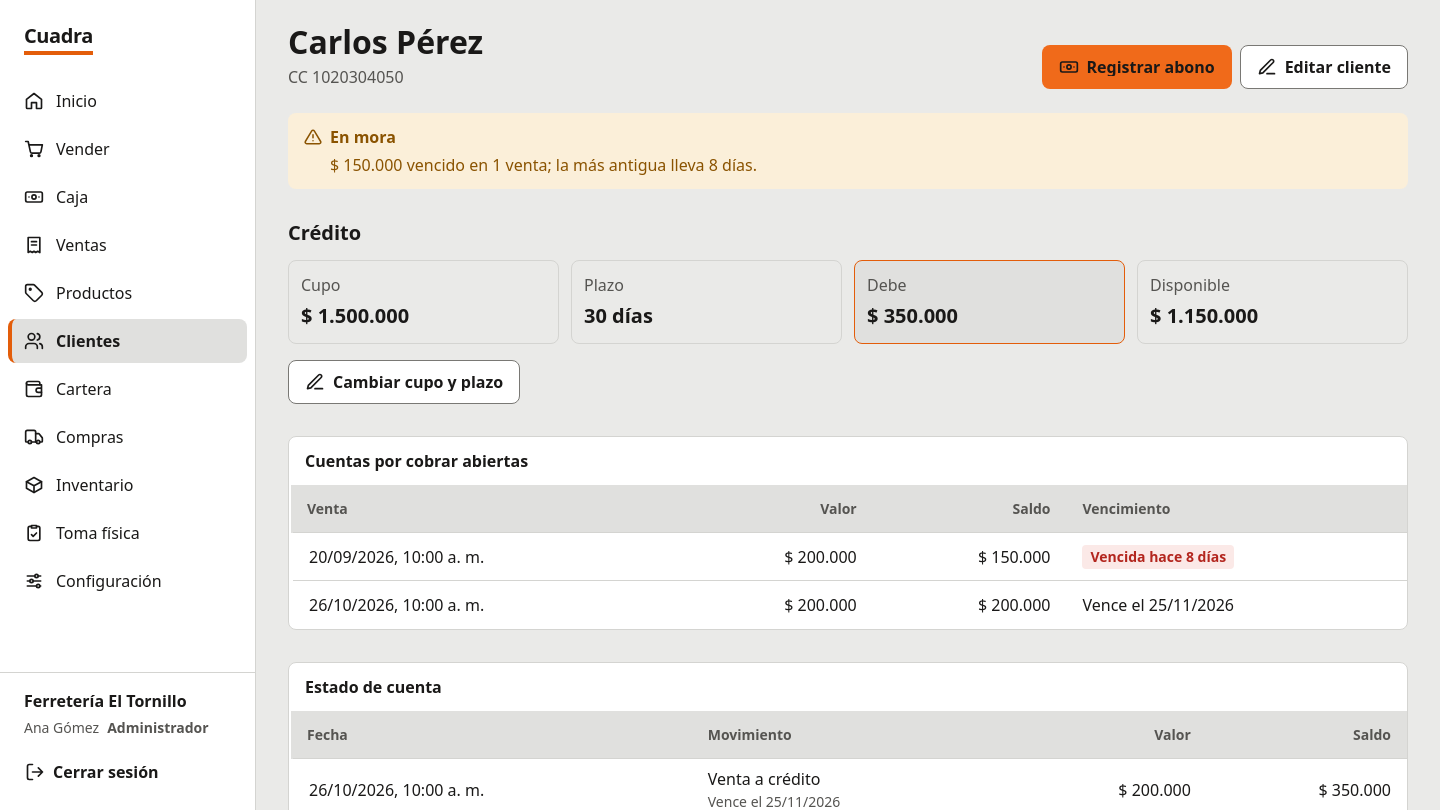
Test: CustomerAccountPage › guarda el cupo y el plazo
Click the button "Cambiar cupo y plazo". click: (404, 382)
box: [288,360,520,404]
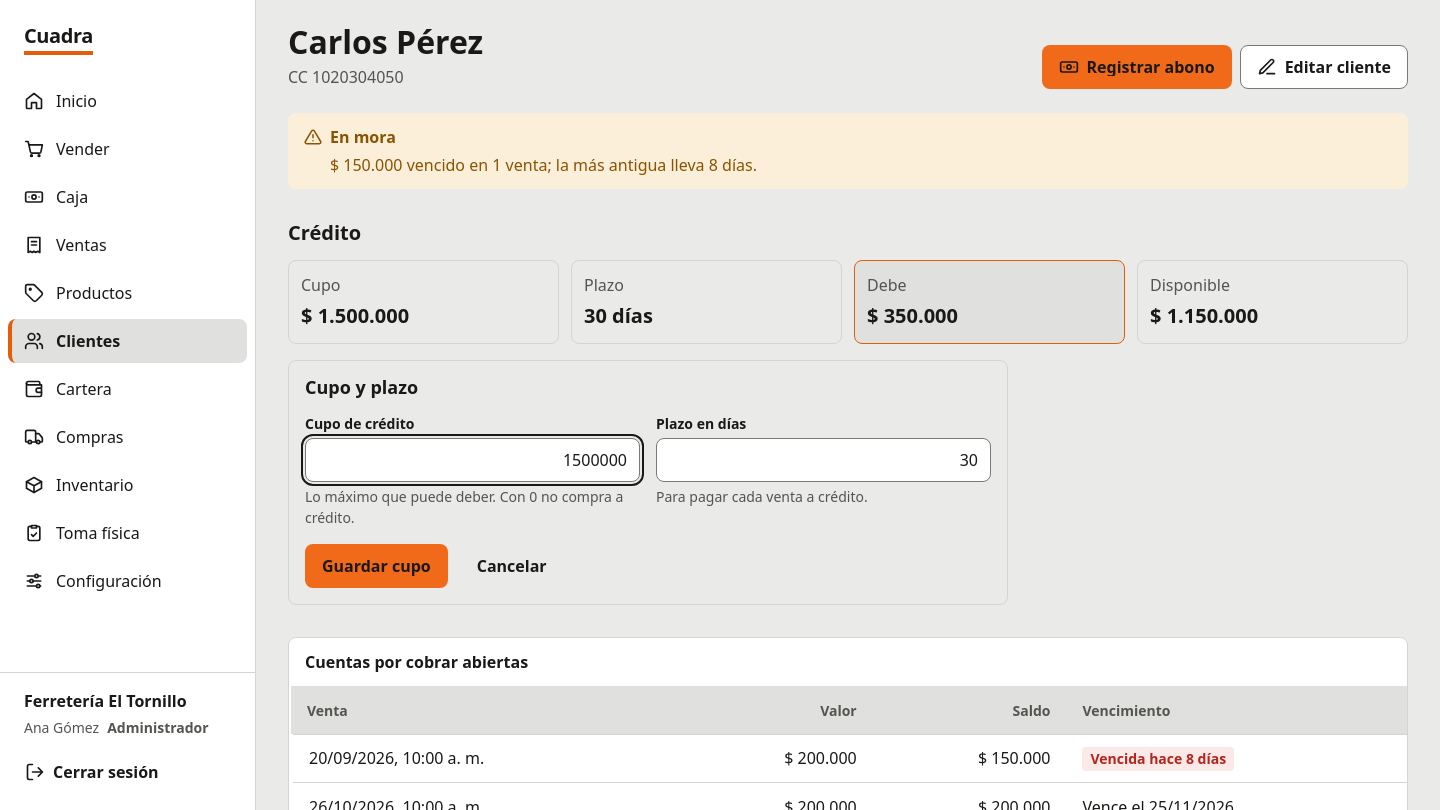
expect the field labelled "Cupo de crédito" holds "1500000": met
Replace the text in the field labelled "Cupo de crédito" with "2.000.000". click: (472, 460)
box: [305,438,640,482]
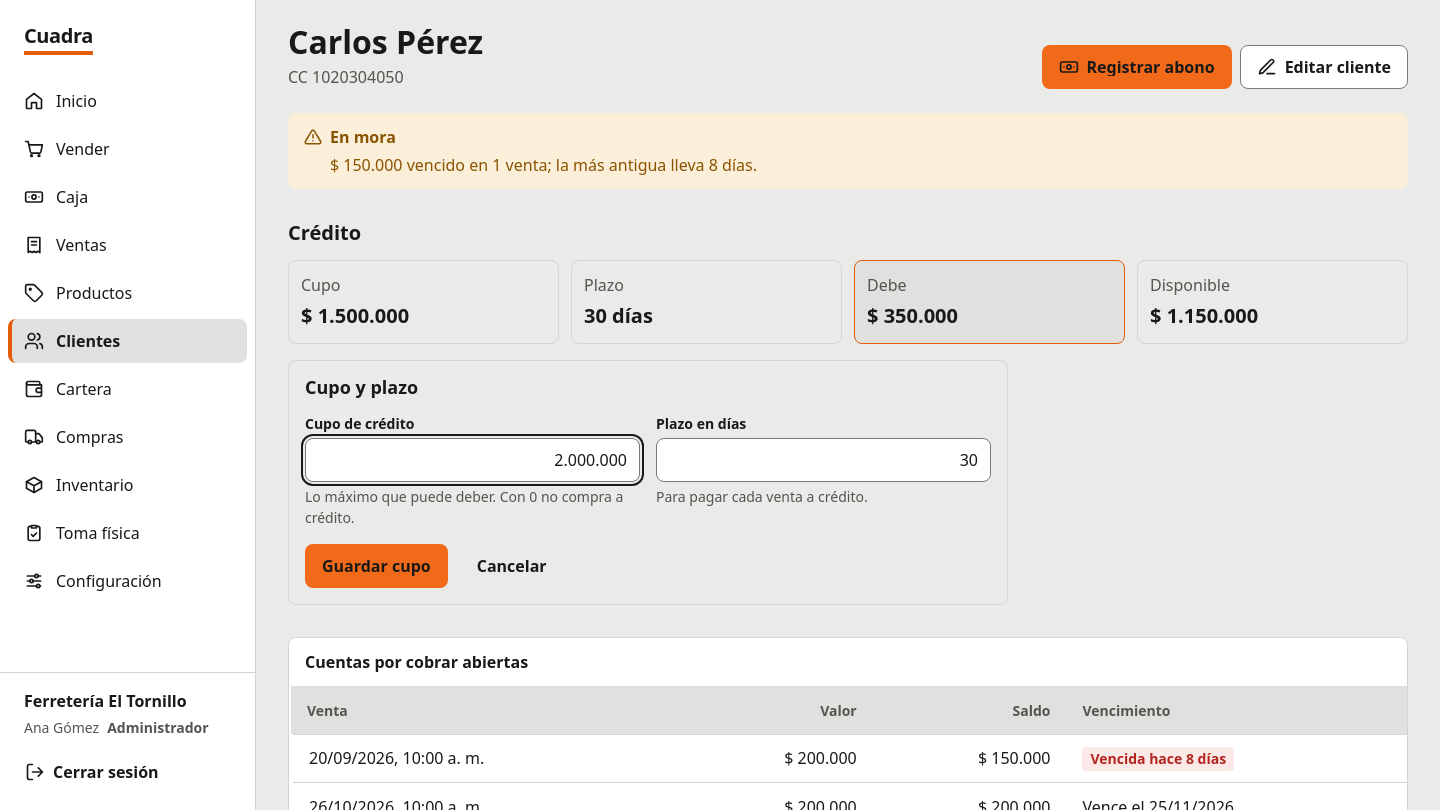
Replace the text in the field labelled "Plazo en días" with "45". click: (824, 460)
box: [656,438,991,482]
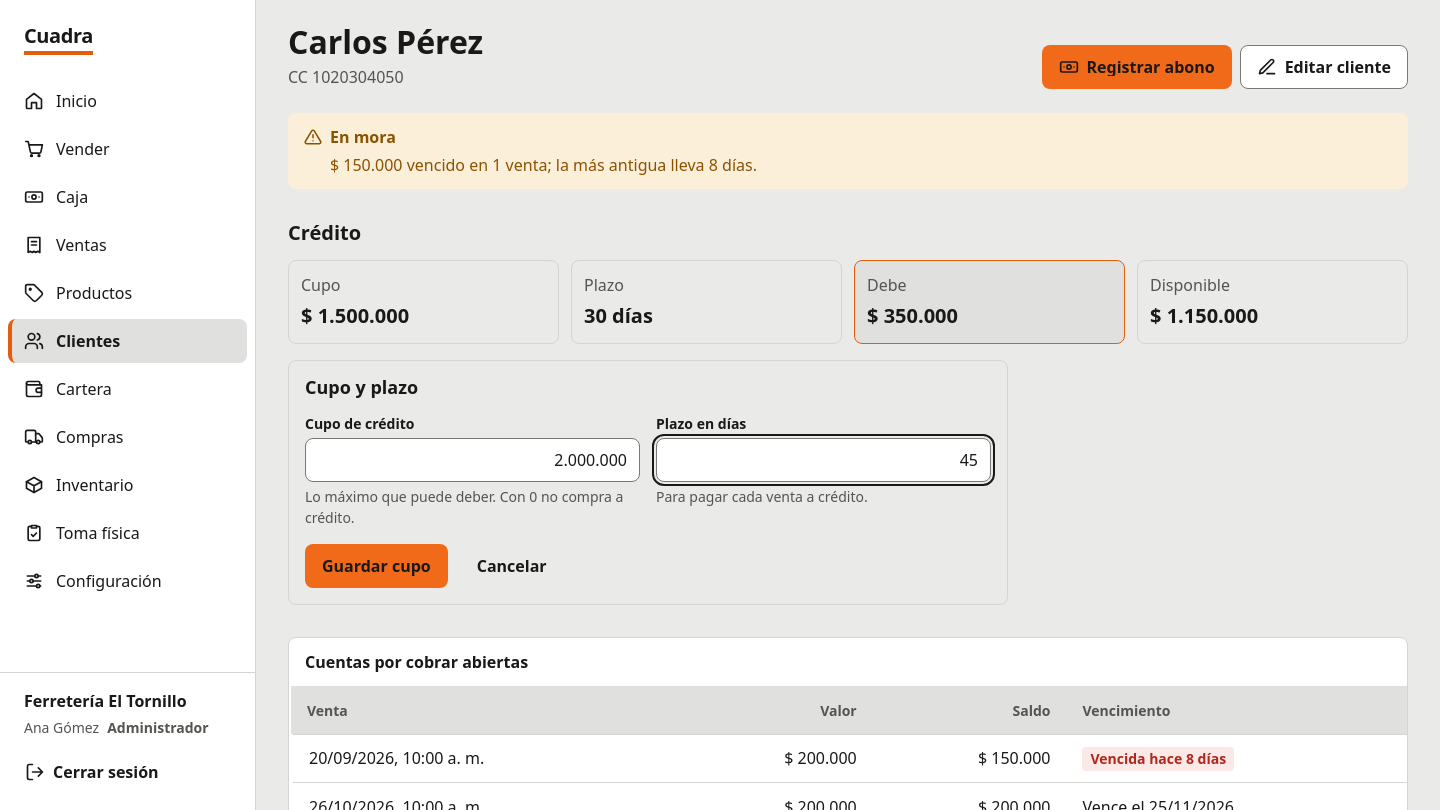
Click the button "Guardar cupo". click: (376, 566)
box: [305,544,448,588]
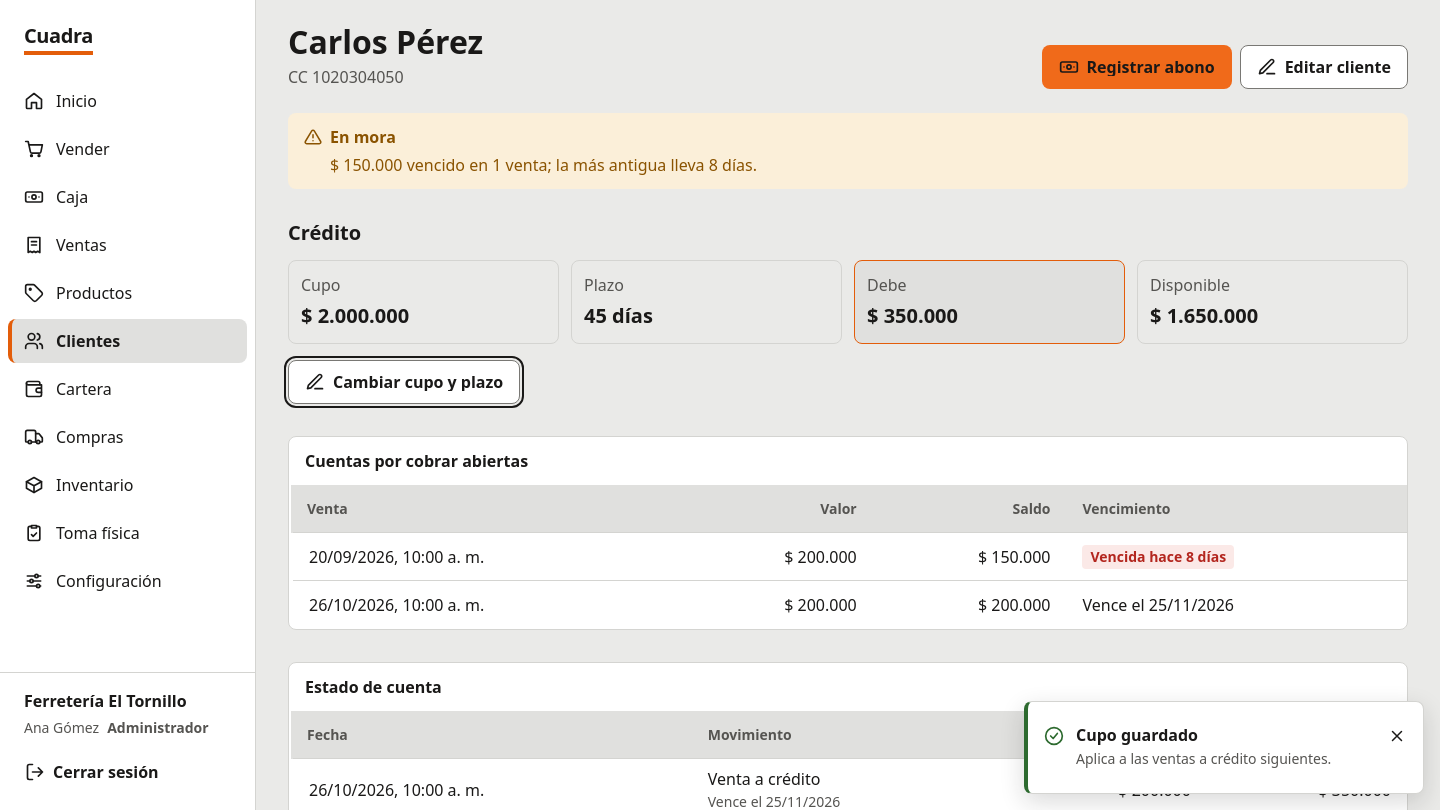
expect the text "Cupo guardado" is shown: met, box [1076,724,1198,746]
expect the label labelled "Cupo de crédito" is gone: met
